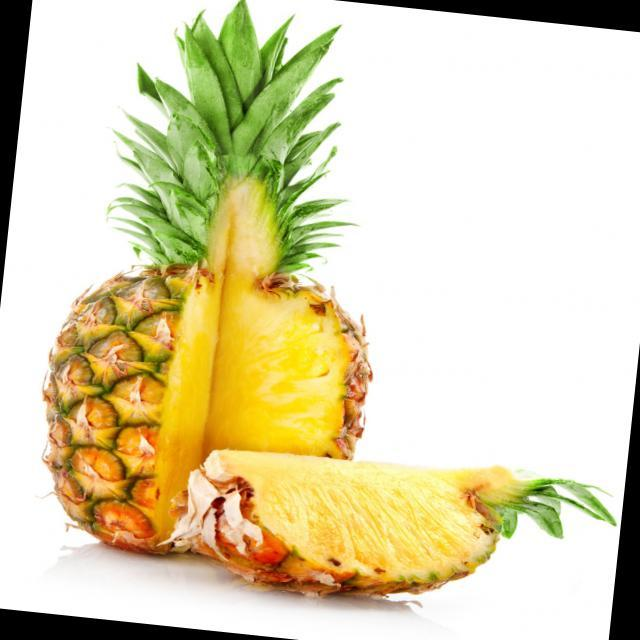PINEAPLE: (35, 0, 433, 575), (185, 427, 596, 620)
